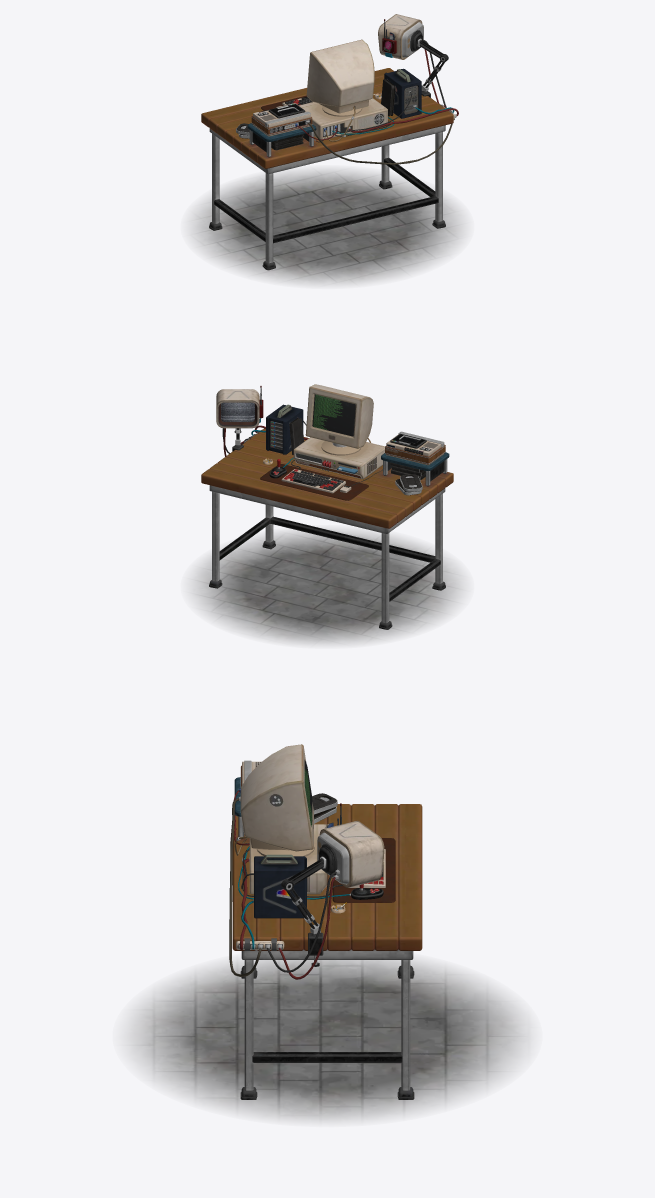
Rendered from hacker-room.glb.
The picture shows the model from 3 angles, top to bottom: view 1: azimuth 30°, elevation 25°; view 2: azimuth 150°, elevation 25°; view 3: azimuth 270°, elevation 25°; orthographic projection. The views are drawn at different scales.
Parts seen in each view (by area): view 1: table_table_mat_0; view 2: table_table_mat_0, screen_screens_0; view 3: table_table_mat_0.
Boxes of the visible parts, x1,y1,x2,y2 form: table_table_mat_0: [189, 14, 465, 284]; table_table_mat_0: [189, 384, 465, 644]; screen_screens_0: [221, 394, 355, 436]; table_table_mat_0: [126, 744, 528, 1121].
Size of the model in its own units: 272 by 119 by 245.
14 materials, 14 textured.
